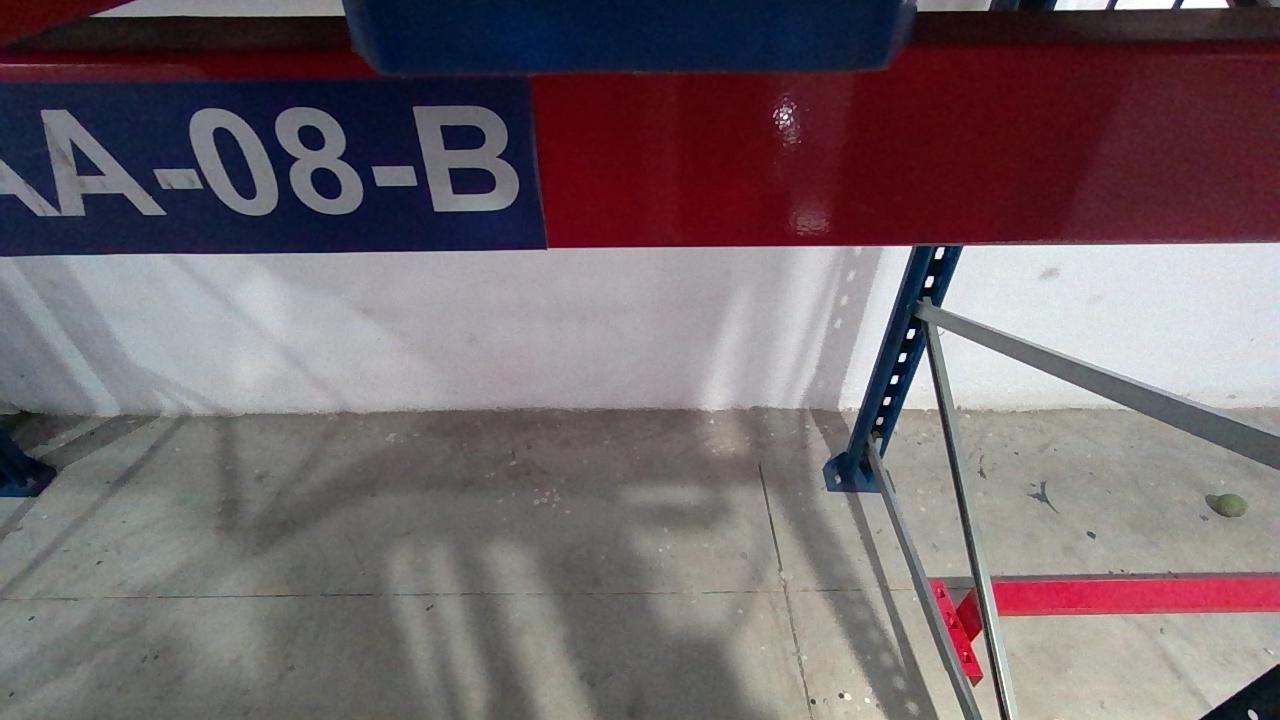h_rack: (0, 52, 1278, 257)
